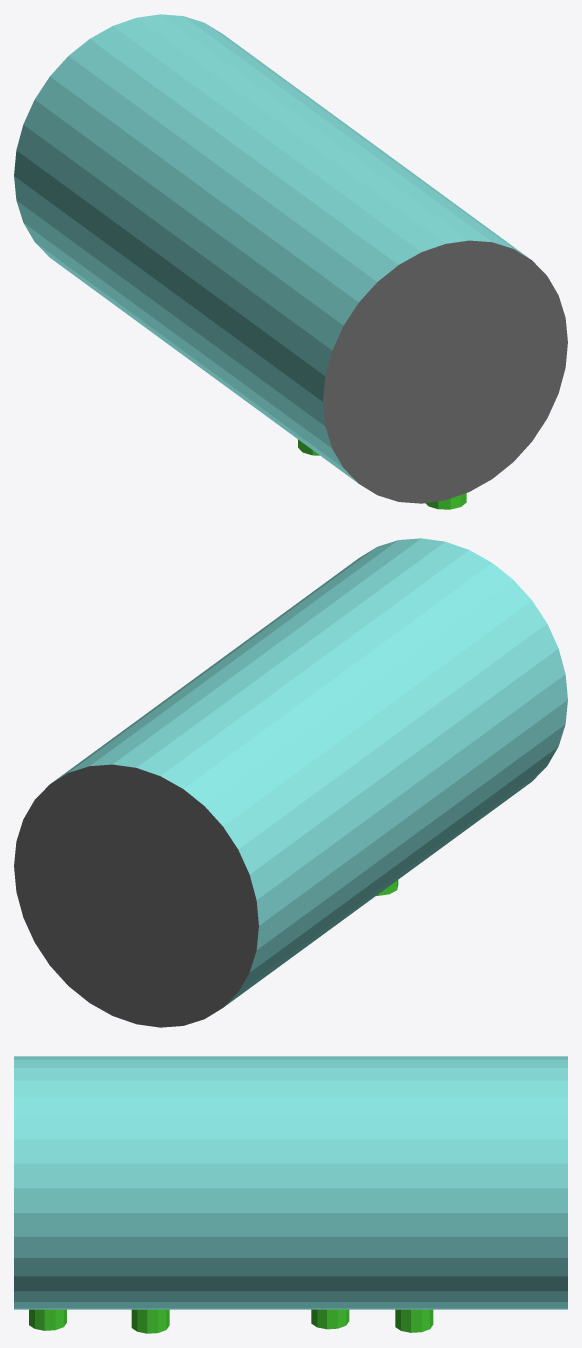
File: LifeSupportBottle.glb
3 renders of one model, top to bottom at view 1: azimuth 30°, elevation 25°; view 2: azimuth 150°, elevation 25°; view 3: azimuth 270°, elevation 25°, orthographic. The views are drawn at different scales.
Parts seen in each view (by area): view 1: Cylinder; view 2: Cylinder; view 3: Cylinder.
Boxes of the visible parts, x1,y1,x2,y2 form: Cylinder: (14, 14, 567, 509); Cylinder: (14, 538, 567, 1027); Cylinder: (14, 1056, 567, 1333).
Bounding box in the file's own units: 1.31 × 1.42 × 2.86.
